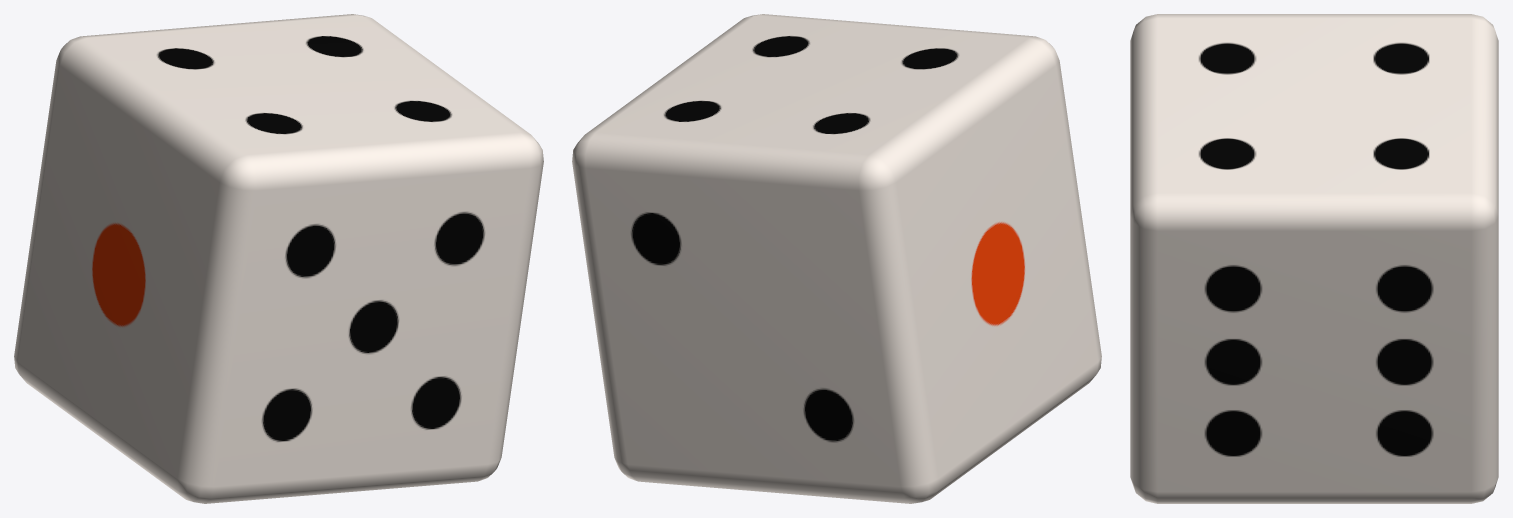
The model's file is dice_Anim.fbx.
3 renders of one model, left to right at view 1: azimuth 30°, elevation 25°; view 2: azimuth 150°, elevation 25°; view 3: azimuth 270°, elevation 25°, orthographic.
Visible parts, largest first — view 1: pCube1; view 2: pCube1; view 3: pCube1.
Part boxes in pixels (x1,y1,x2,y2): pCube1: (14, 14, 543, 503); pCube1: (572, 14, 1101, 503); pCube1: (1130, 14, 1498, 503).
Bounding box in the file's own units: 0.6833 × 0.6833 × 0.6109.
